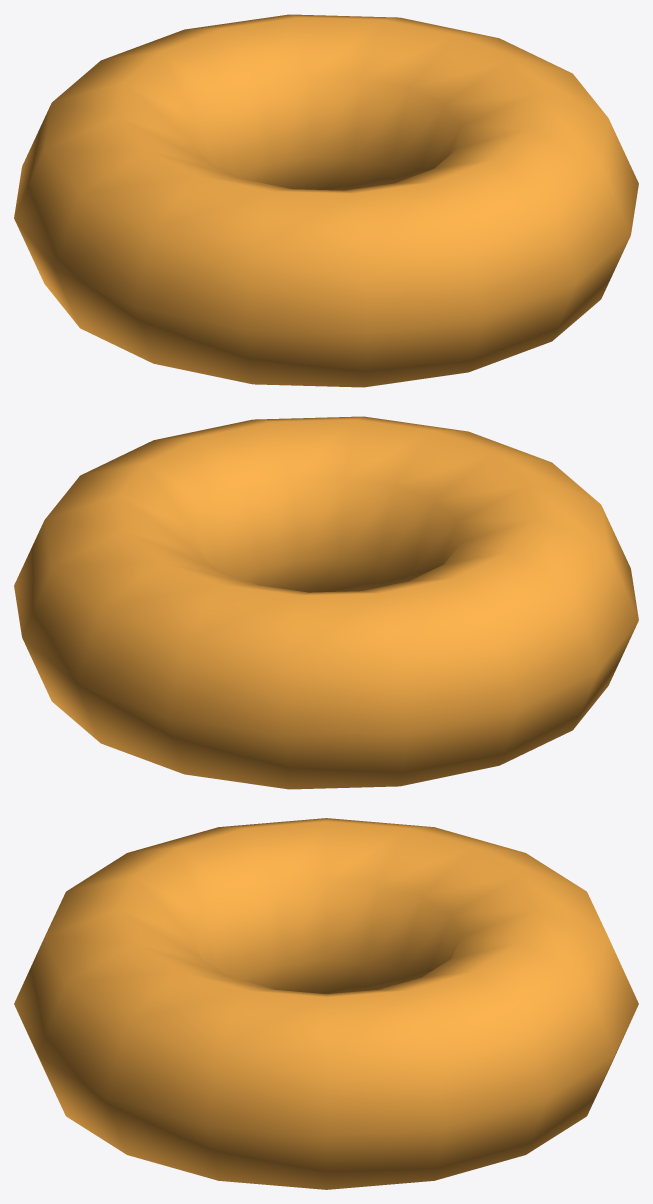
Rendered from food_bagel.glb.
3 views of the same model, one above another, from view 1: azimuth 30°, elevation 25°; view 2: azimuth 150°, elevation 25°; view 3: azimuth 270°, elevation 25° (orthographic).
Parts seen in each view (by area): view 1: food_bagel; view 2: food_bagel; view 3: food_bagel.
Boxes of the visible parts, bbox=[...] form: food_bagel: bbox=[14, 14, 638, 387]; food_bagel: bbox=[14, 416, 638, 789]; food_bagel: bbox=[14, 818, 638, 1189].
Bounding box in the file's own units: 0.21 × 0.07 × 0.21.
